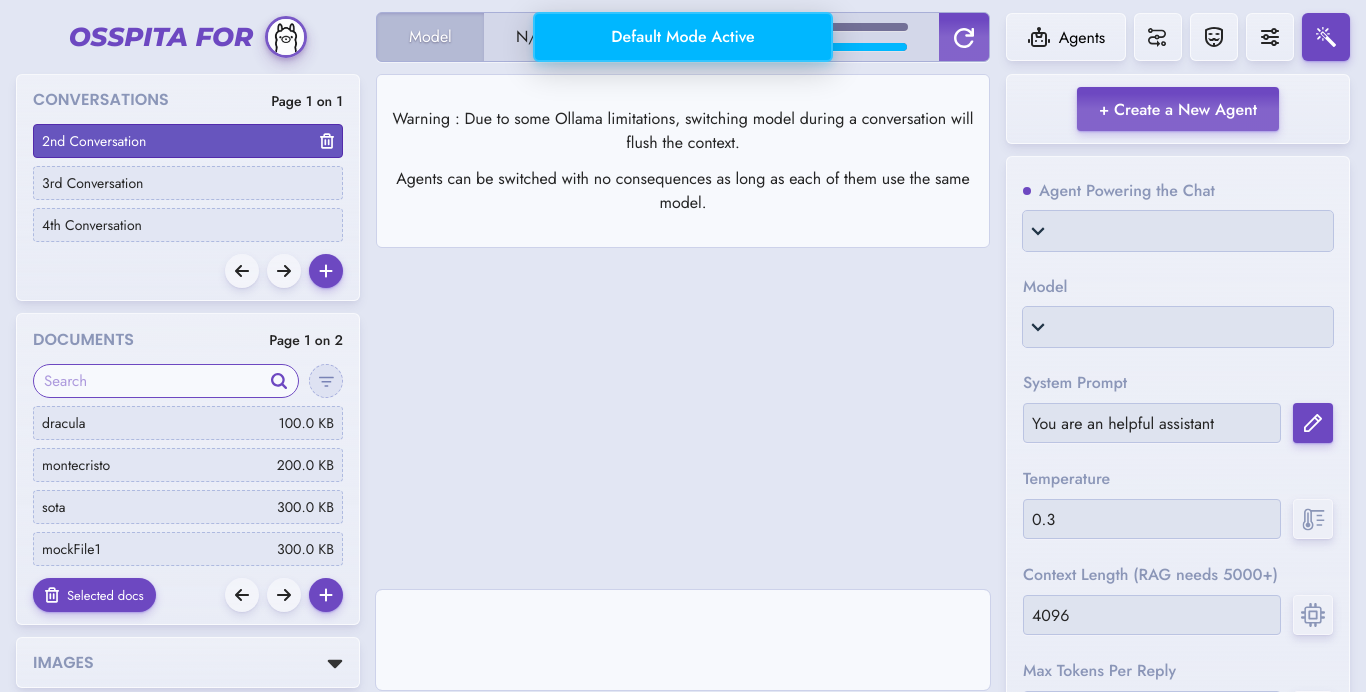
Test case: Given I am on the Chat page › Then I should be able to add some agents to the chain
The width and height of the screenshot is (1366, 692).
expect the text "OSSPITA FOR" is shown: met, box [69,18,253,56]
Click the button titled "Query processed by a chain of Agents" at point(1158, 37), box [1134,13,1182,61]
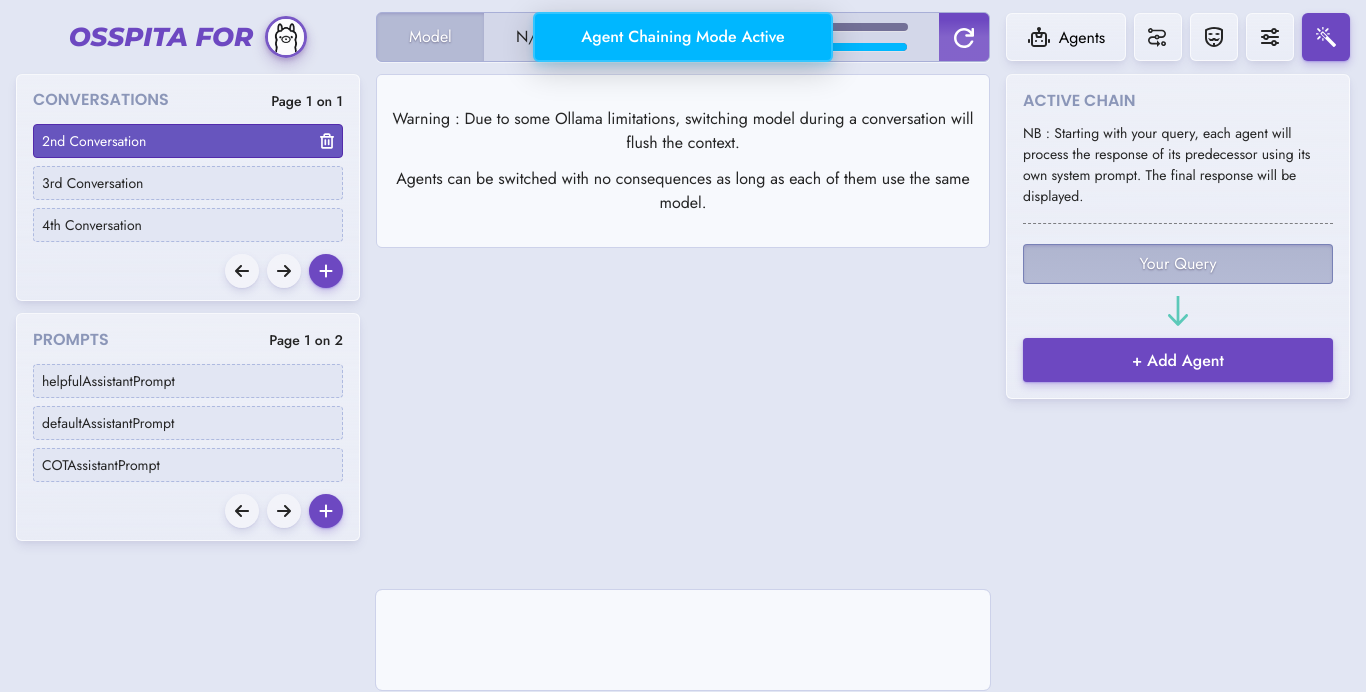
expect the heading "ACTIVE CHAIN" is shown: met, box [1023,89,1136,112]
expect the button "+ Add Agent" is shown: met
Click the button "+ Add Agent" at point(1178, 360), box [1023,338,1333,382]
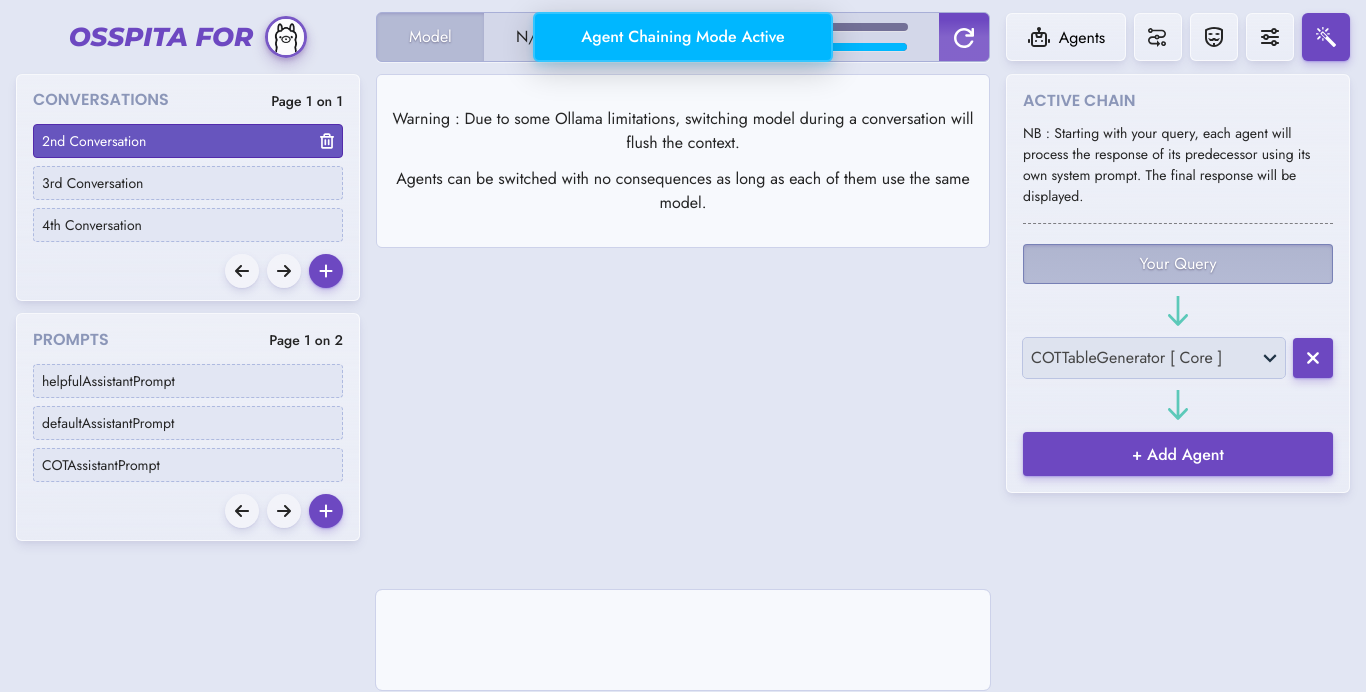
expect the dropdown "COTTableGenerator [ Core ]" is shown: met, box [1023,338,1285,378]
